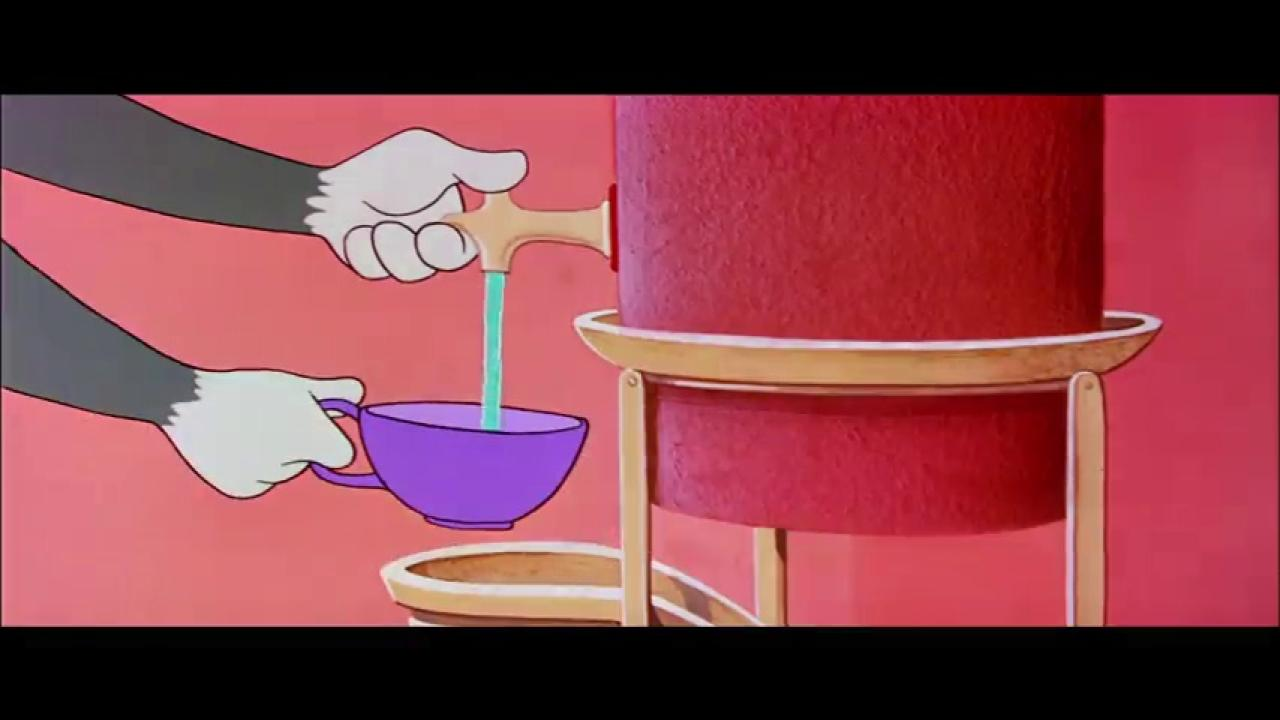Tom: (0, 95, 528, 503)
